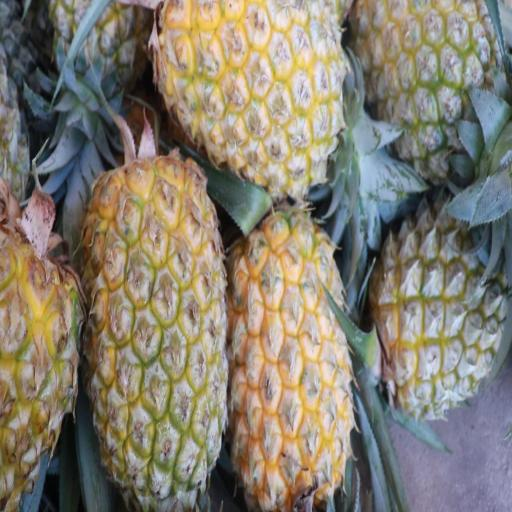------------------------------: (380, 202, 512, 419)
Pineapple - v8 v1: (91, 160, 227, 503), (159, 0, 343, 192), (233, 216, 350, 500), (356, 0, 491, 167)
